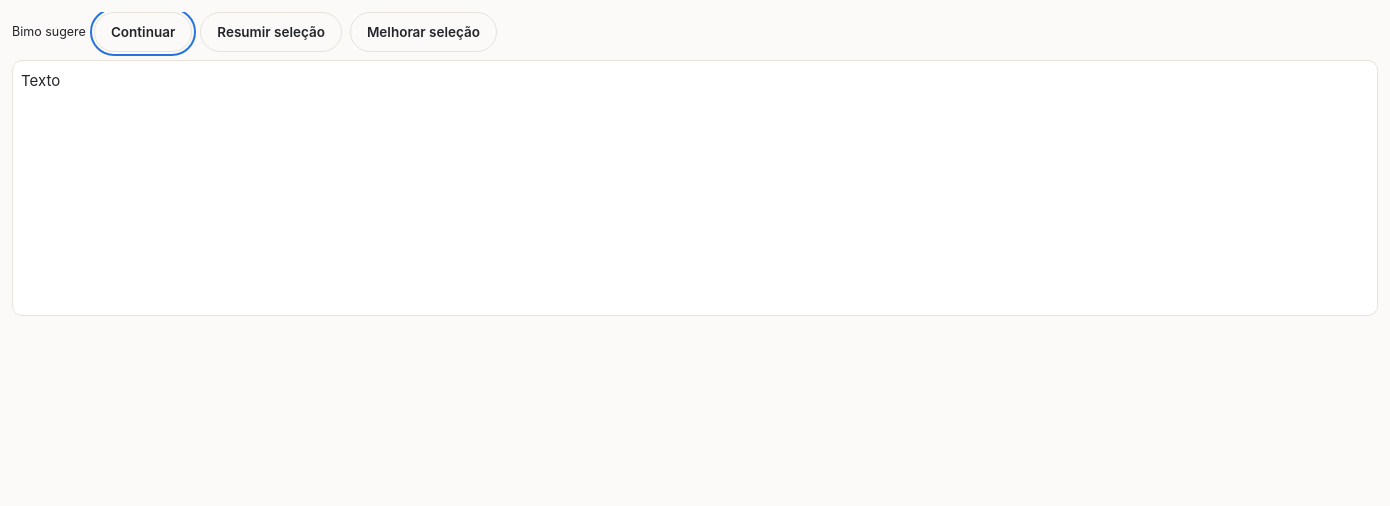
Test: Bimo sugere (rascunho) › se a pessoa voltou a digitar no texto, a proposta que chega NÃO rouba o foco (Enter/espaço ali não aceitariam)
Click the button "Continuar" at (143, 32), box [94, 12, 192, 52]
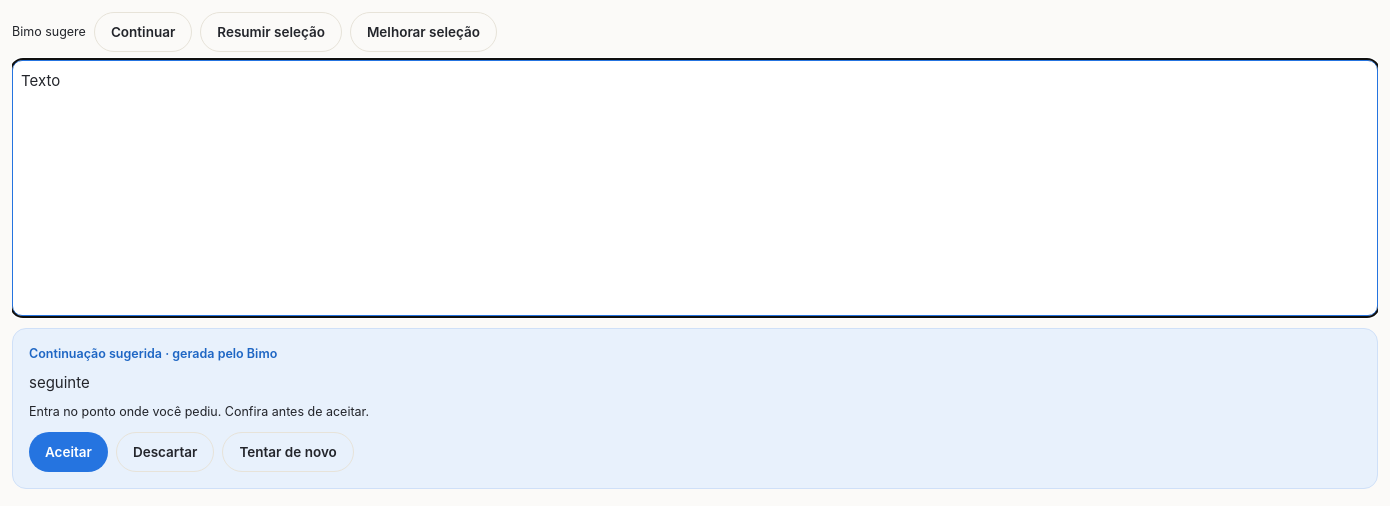
expect the element named "Proposta do Bimo" is shown: met, box [12, 328, 1378, 489]
